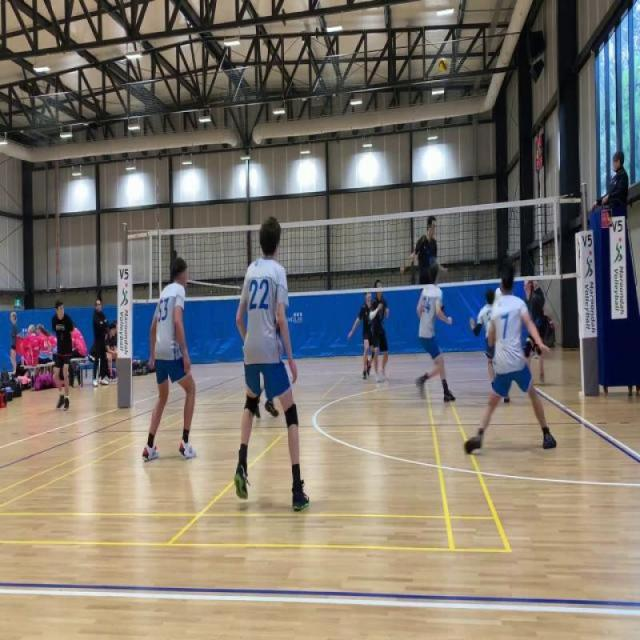volleyball: (438, 56, 448, 75)
